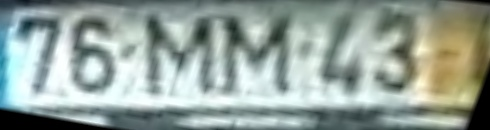3: (368, 7, 426, 98)
4: (312, 11, 374, 100)
6: (65, 13, 122, 97)
7: (11, 15, 67, 100)
M: (143, 10, 221, 104), (219, 11, 299, 101)
